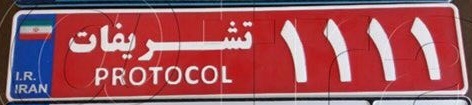1: (360, 14, 404, 85), (407, 11, 448, 83), (318, 15, 359, 86), (276, 16, 313, 86)
تشریفات: (65, 14, 259, 91)
